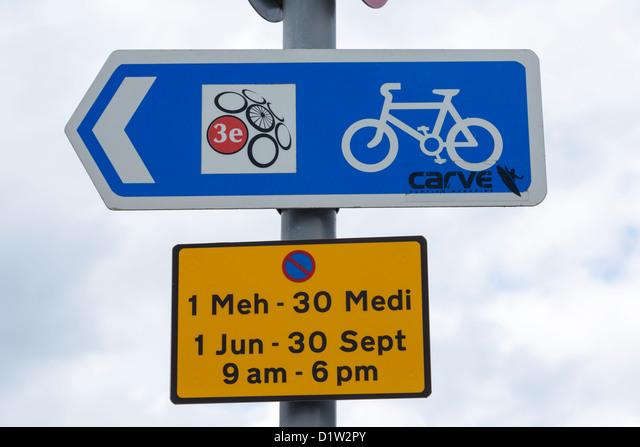Parking Lot Cycle: (81, 43, 538, 222)
